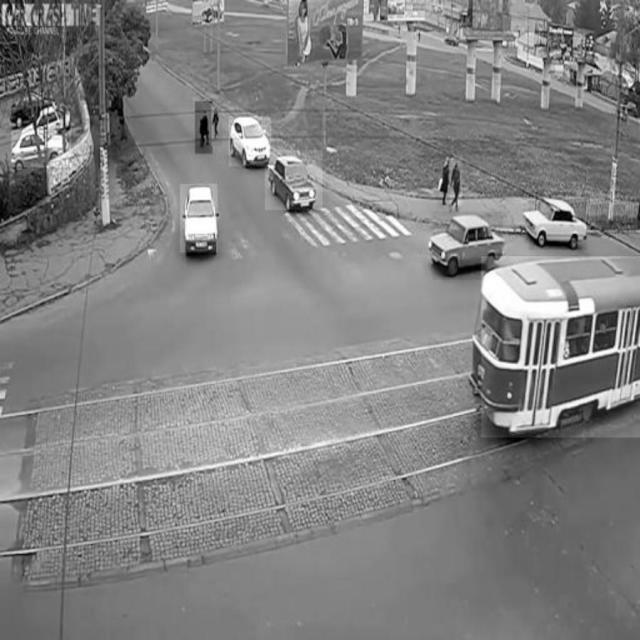person: (196, 102, 213, 154), (439, 149, 454, 204), (451, 156, 463, 206), (212, 104, 222, 146)
vehicle: (481, 257, 639, 437), (432, 211, 503, 279), (265, 150, 322, 210), (529, 195, 587, 251), (180, 184, 217, 252), (11, 130, 71, 167), (230, 117, 272, 167)
